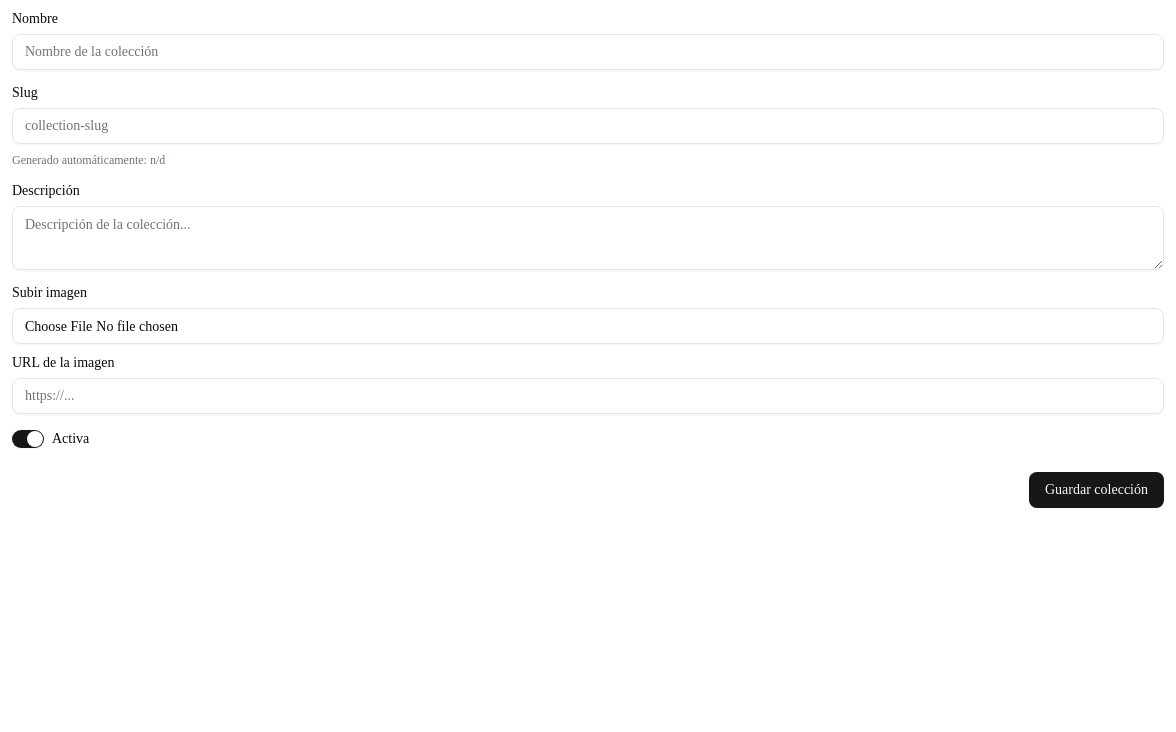
Scenario: CollectionForm: fields › toggles the active switch
Click the switch named "Activa": x=28, y=439 [12,430,44,448]
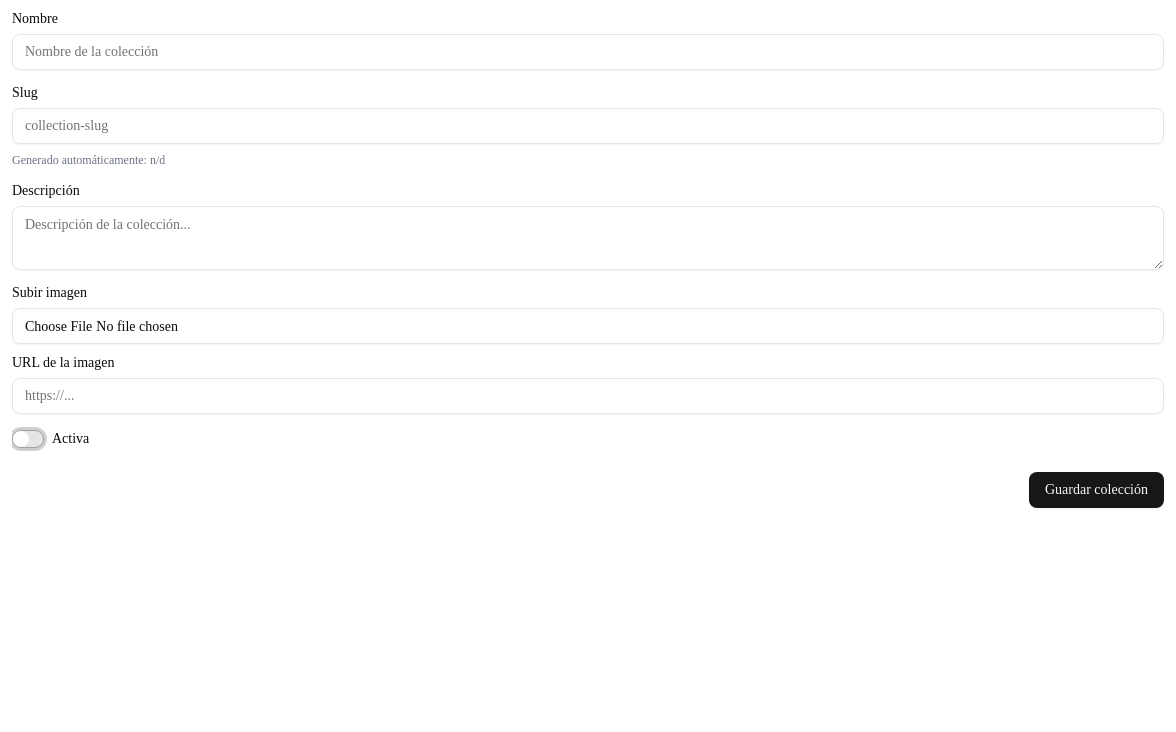
Now the switch named "Activa" is not checked, box [12,430,44,448]
